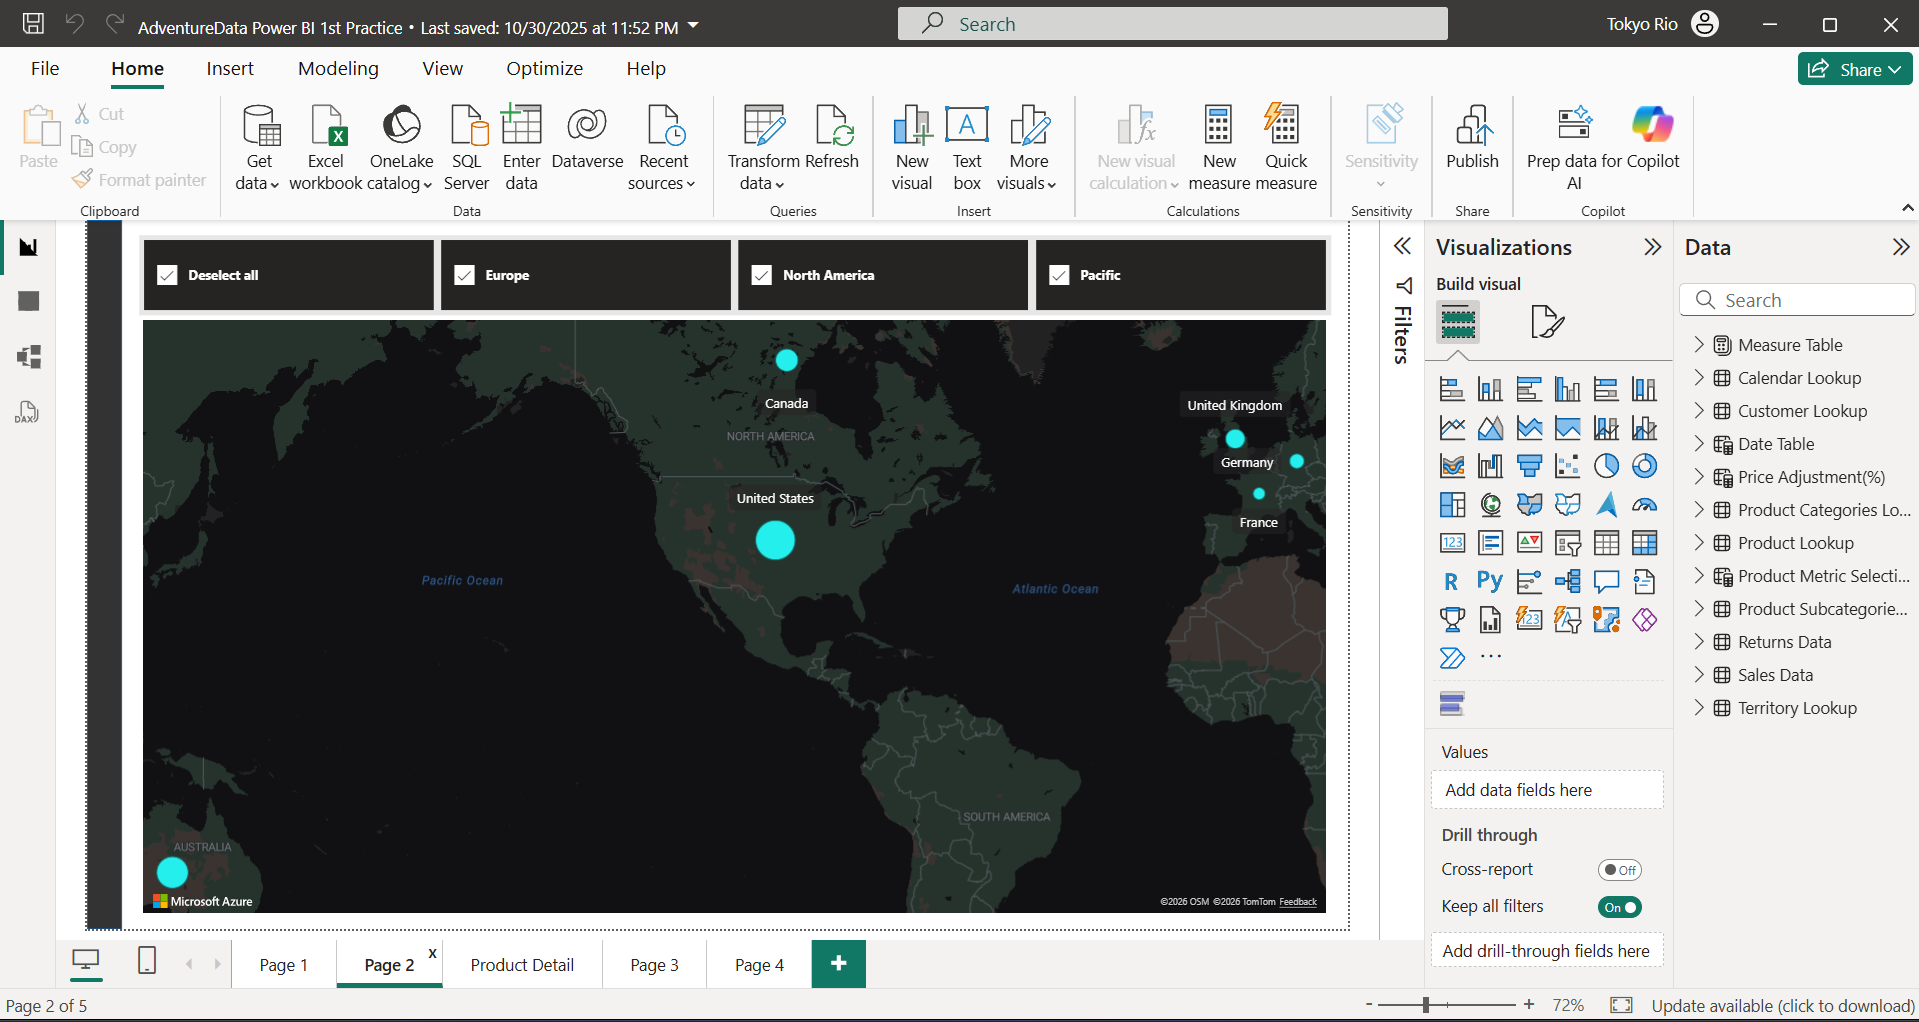

Layout of this report page (visuals, bound fields, positions):
{"tool":"powerbi","page":{"name":"Page 2","canvas":[1280,720],"ordinal":1},"visuals":[{"type":"shape","box":[0,0,35.6,720.7],"z":0},{"type":"azureMap","fields":{"Category":["Territory Lookup.Country"],"Size":["Measure Table.Total Orders"]},"box":[51.7,96.4,1212.3,611.7],"z":1000},{"type":"advancedSlicerVisual","fields":{"Values":["Territory Lookup.Continent"]},"box":[52.7,15.7,1210.6,81.2],"z":2000}]}

Visuals, with their boxes on the page's 1280x720 design canvas (x1, y1, x2, y2). These are canvas units, not pixel positions in the 1919x1022 screenshot, which may show the page scaled, cropped or inside an application window:
shape: (left=0, top=0, right=36, bottom=721)
azureMap - Territory Lookup.Country x Measure Table.Total Orders: (left=52, top=96, right=1264, bottom=708)
advancedSlicerVisual - Territory Lookup.Continent: (left=53, top=16, right=1263, bottom=97)
